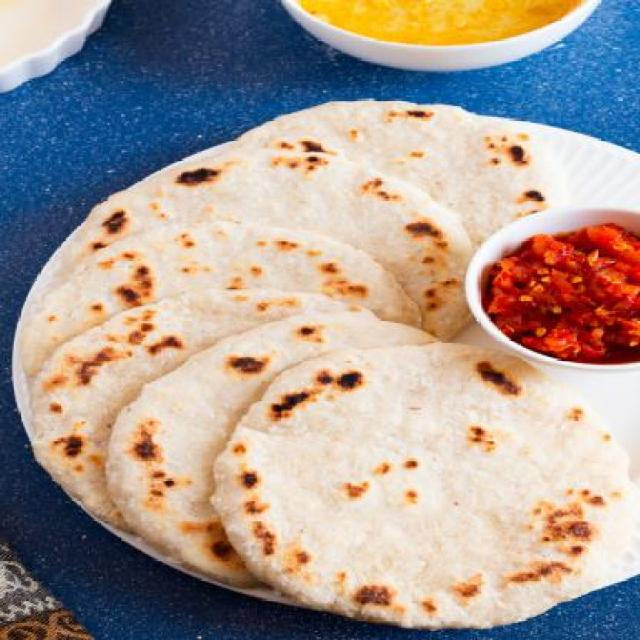chapati: (212, 342, 632, 629), (109, 313, 446, 592), (29, 290, 374, 536), (75, 149, 477, 342), (18, 224, 424, 399), (235, 99, 547, 252)
